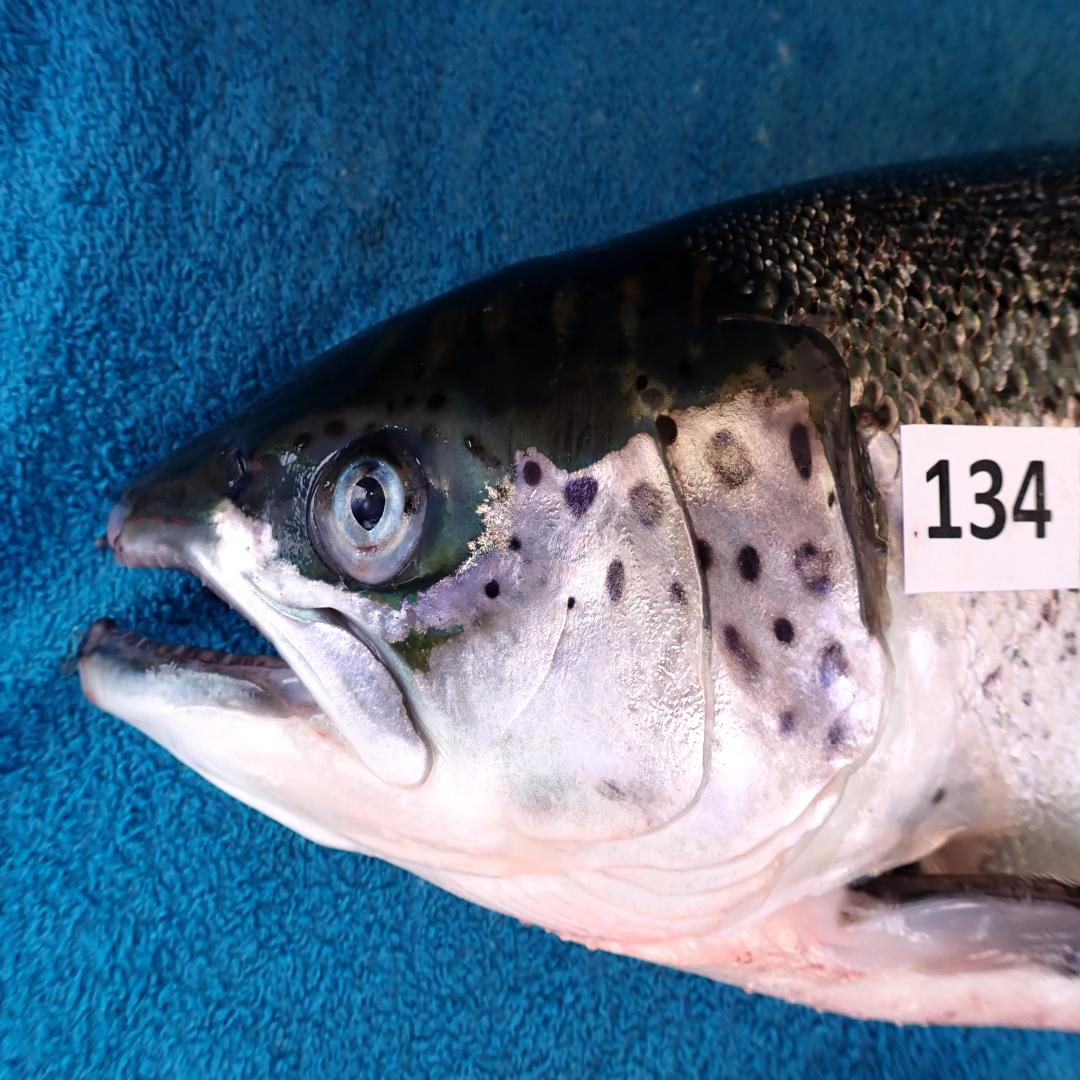roi: (419, 384, 890, 954)
